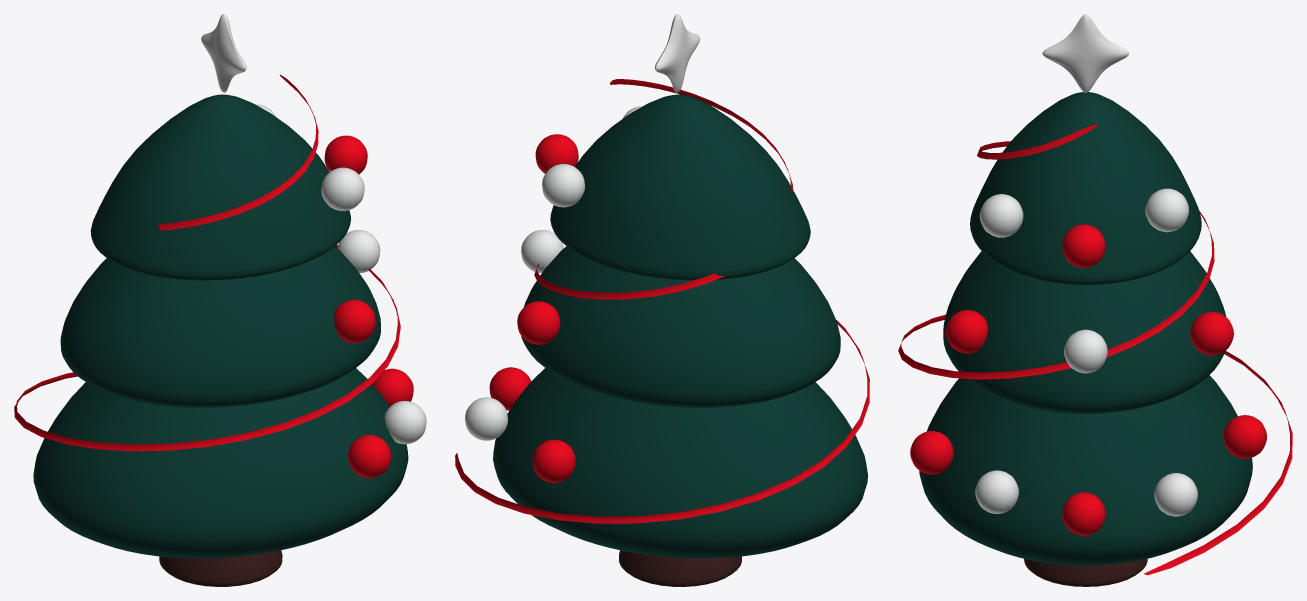
Rendered from tree.fbx.
3 views of the same model, side by side, from view 1: azimuth 30°, elevation 25°; view 2: azimuth 150°, elevation 25°; view 3: azimuth 270°, elevation 25° (orthographic).
Visible parts, largest first — view 1: tree; view 2: tree; view 3: tree.
Part boxes in pixels (<box>): tree: <box>14,14,426,586</box>; tree: <box>455,14,869,586</box>; tree: <box>898,14,1292,586</box>.
Bounding box in the file's own units: 1.75 × 2.51 × 1.62.
